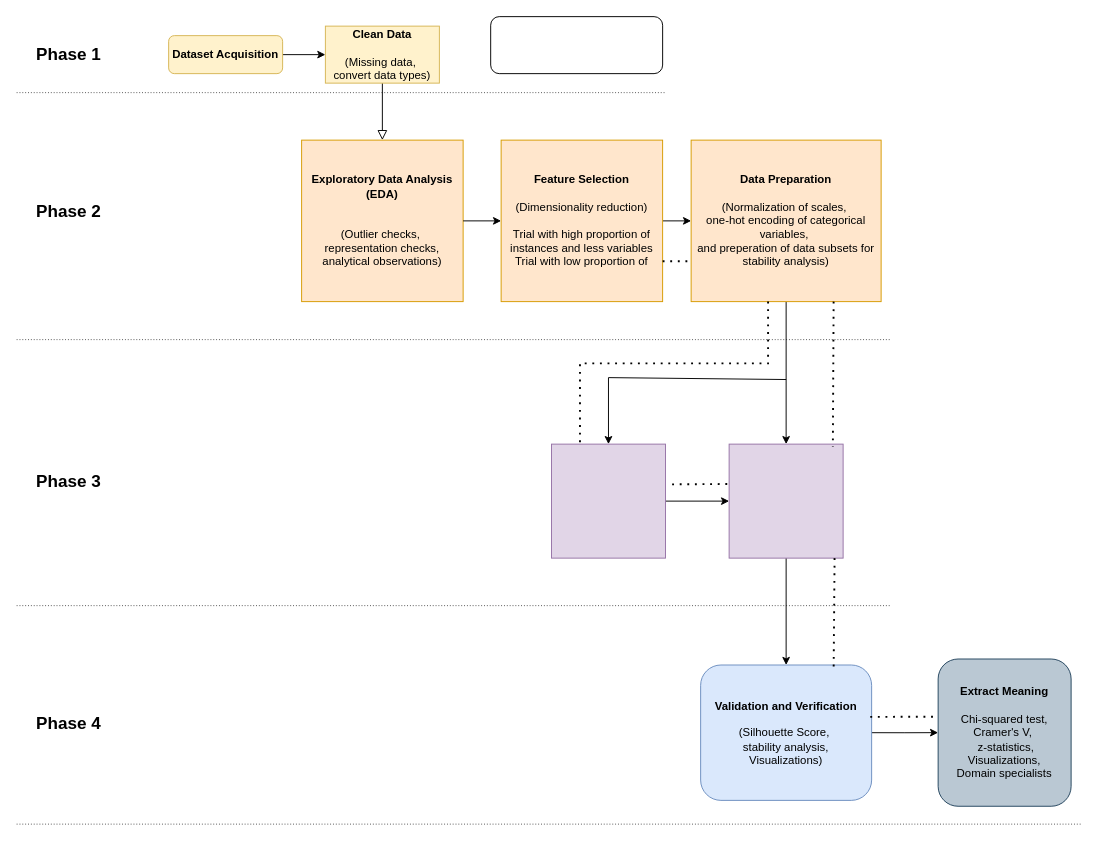
The diagram is 1098 pixels wide and 842 high, and some of its shapes have lost their labels. Here are the shapes that lost their labels. From the top down, the box of each, then its label:
(490, 16, 663, 74): Context Research (Feature relevance and context understanding)
(551, 443, 665, 558): Principle Component Analysis Uniform Manifold Approximation and Projection
(728, 443, 843, 558): Cluster Modelling 1. K-means, 2. DBSCAN, 3. HDBSCAN
